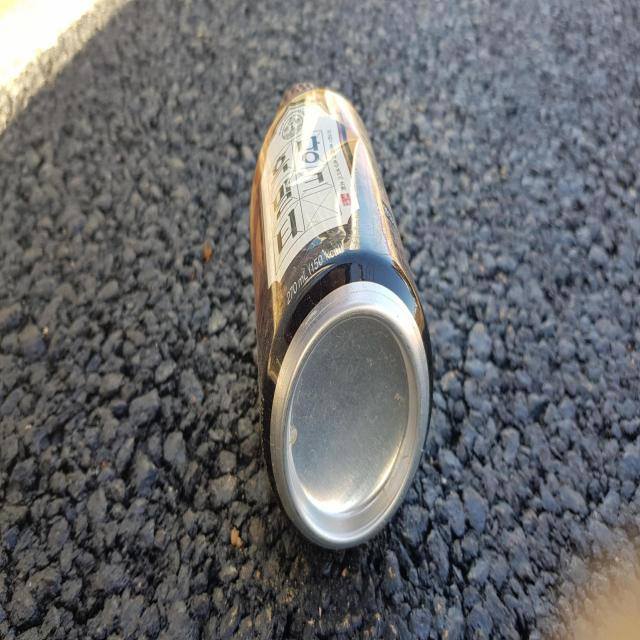can: (250, 82, 434, 548)
